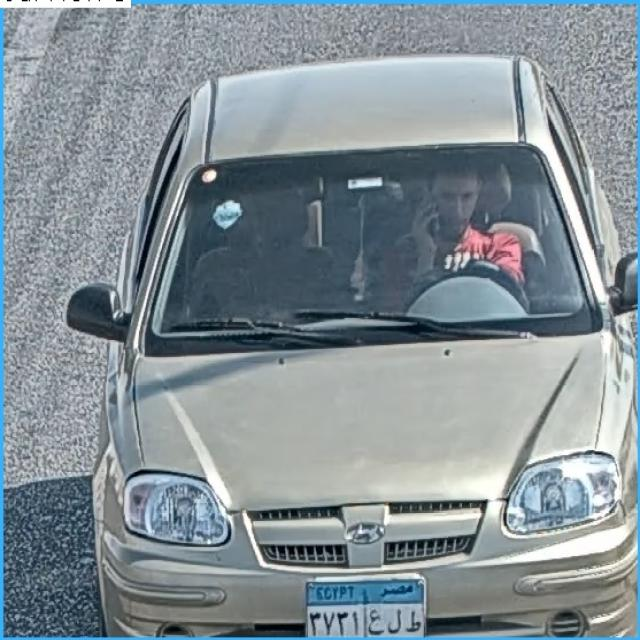windshield: (153, 152, 589, 342)
